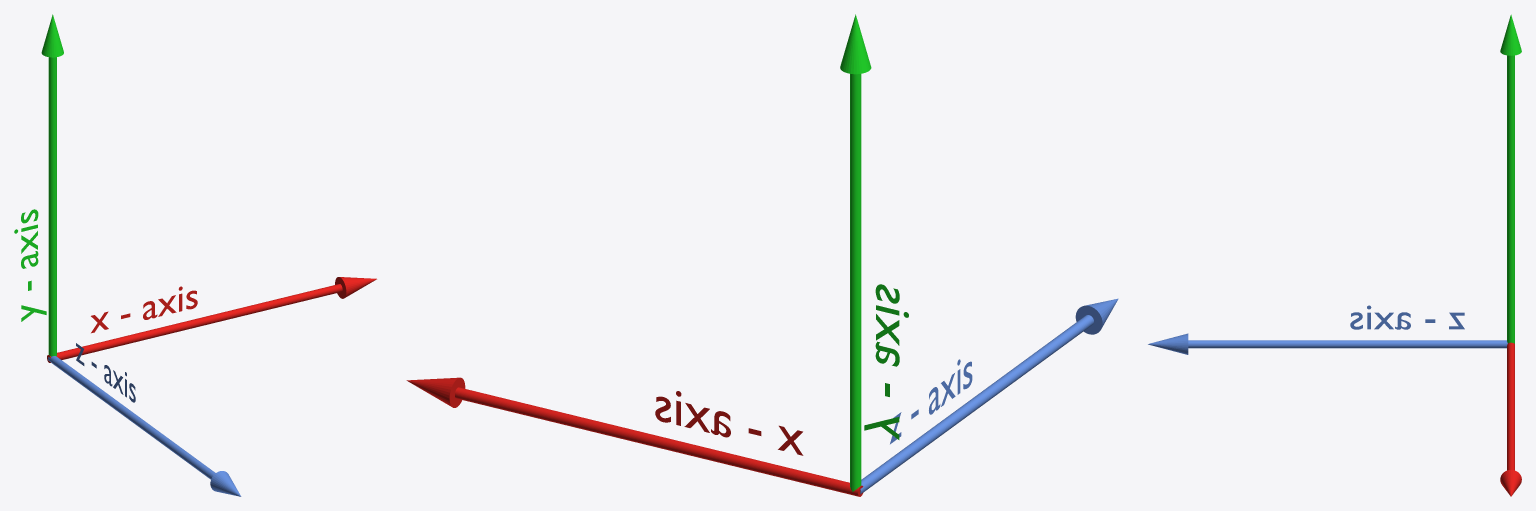
The model's file is AxisHelper_01.glb.
3 renders of one model, left to right at view 1: azimuth 30°, elevation 25°; view 2: azimuth 150°, elevation 25°; view 3: azimuth 270°, elevation 25°, orthographic. The views are drawn at different scales.
Visible parts, largest first — view 1: Cylinder.002, Text.002, Text.007, Text.008; view 2: Cylinder.002, Text.002, Text.007, Text.008; view 3: Cylinder.002, Text.008.
Part boxes in pixels (x1,y1,x2,y2): Cylinder.002: (41,14,376,496); Text.002: (14,209,46,321); Text.007: (91,286,197,333); Text.008: (76,343,135,402); Cylinder.002: (406,14,1118,496); Text.002: (864,284,908,439); Text.007: (655,391,803,455); Text.008: (890,359,972,444); Cylinder.002: (1148,14,1521,496); Text.008: (1350,305,1464,329).
Bounding box in the file's own units: 0.7033 × 0.6551 × 0.6536.
